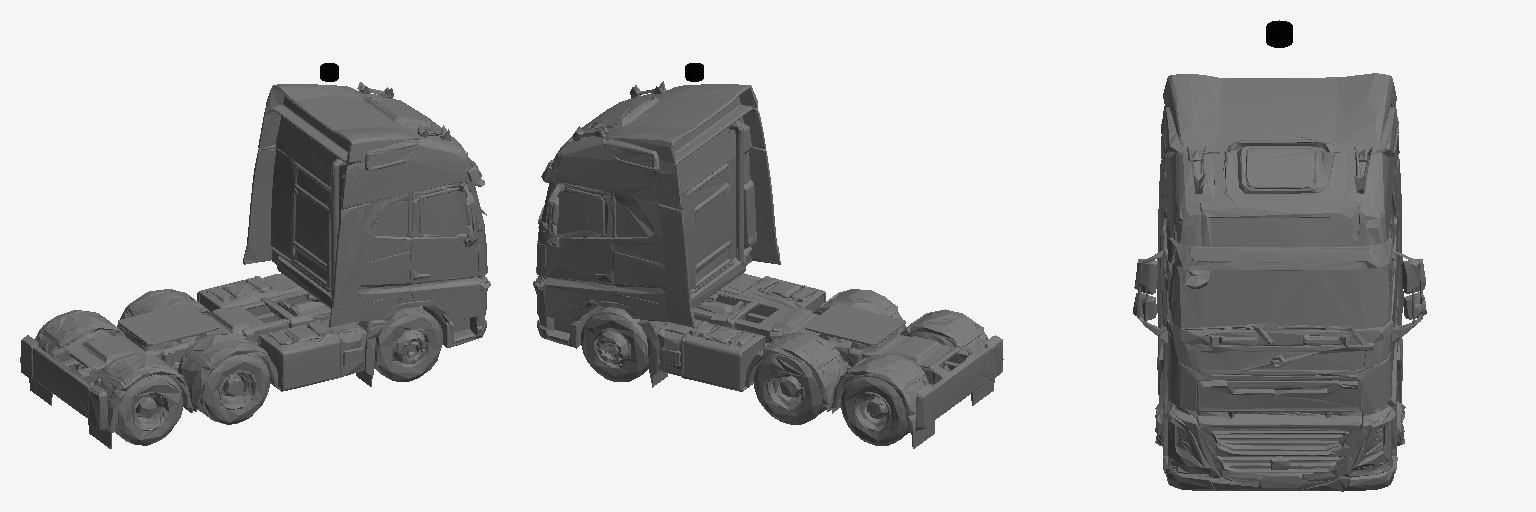
URDF robot description (truck):
<?xml version="1.0"?>
<robot name="truck">

  <!-- Main truck frame -->
  <link name="base_link">
    <visual>
      <origin xyz="-1 0 0" rpy="0 0 1.5708"/> <!-- Adjust RPY if truck is sideways -->
      <geometry>
        <!-- Path to your STL -->
        <mesh filename="package://lidar_launch/config/Truck_Model.stl" scale="2.5 2.5 2.5"/>
      </geometry>
      <material name="gray">
        <color rgba="0.5 0.5 0.5 1.0"/>
      </material>
    </visual>
  </link>

  <link name="safety_base"/>

  <joint name="base_link_to_safety_base" type="fixed">
    <parent link="base_link"/>
    <child link="safety_base"/>
    <origin xyz="0 0 0" rpy="0 0 0"/>
  </joint>

  <!-- Velodyne VLP-16 visual -->
  <link name="velodyne">
    <visual>
      <origin xyz="0 0 0" rpy="0 0 0"/>
      <geometry>
        <cylinder radius="0.052" length="0.072"/>
      </geometry>
      <material name="velodyne_black">
        <color rgba="0.02 0.02 0.02 1.0"/>
      </material>
    </visual>
  </link>

  <!-- LiDAR position relative to safety_base/front-bumper frame -->
  <joint name="safety_base_to_velodyne" type="fixed">
    <parent link="safety_base"/>
    <child link="velodyne"/>
    <origin xyz="-0.57 0.0 1.8" rpy="0 0 0"/>
  </joint>

</robot>

--- Render facts (derived) ---
Views: 3 orthographic renders of the robot side by side, from view 1: azimuth 30°, elevation 25°; view 2: azimuth 150°, elevation 25°; view 3: azimuth 270°, elevation 25°.
Robot: truck — 3 links, 2 joints (2 fixed); root link base_link; default pose: every joint at zero.
Links seen in each view (by area): view 1: base_link; view 2: base_link; view 3: base_link, velodyne.
Boxes of the visible links, <box> form: base_link: <box>20,82,490,448</box>; base_link: <box>533,81,1003,448</box>; base_link: <box>1133,73,1426,491</box>; velodyne: <box>1266,20,1292,47</box>.
Size in the robot's own frame: 2.58 by 1.17 by 1.84 metres.
Meshes: 1 distinct files referenced, 1 mesh visuals loaded (1 binary STL).
